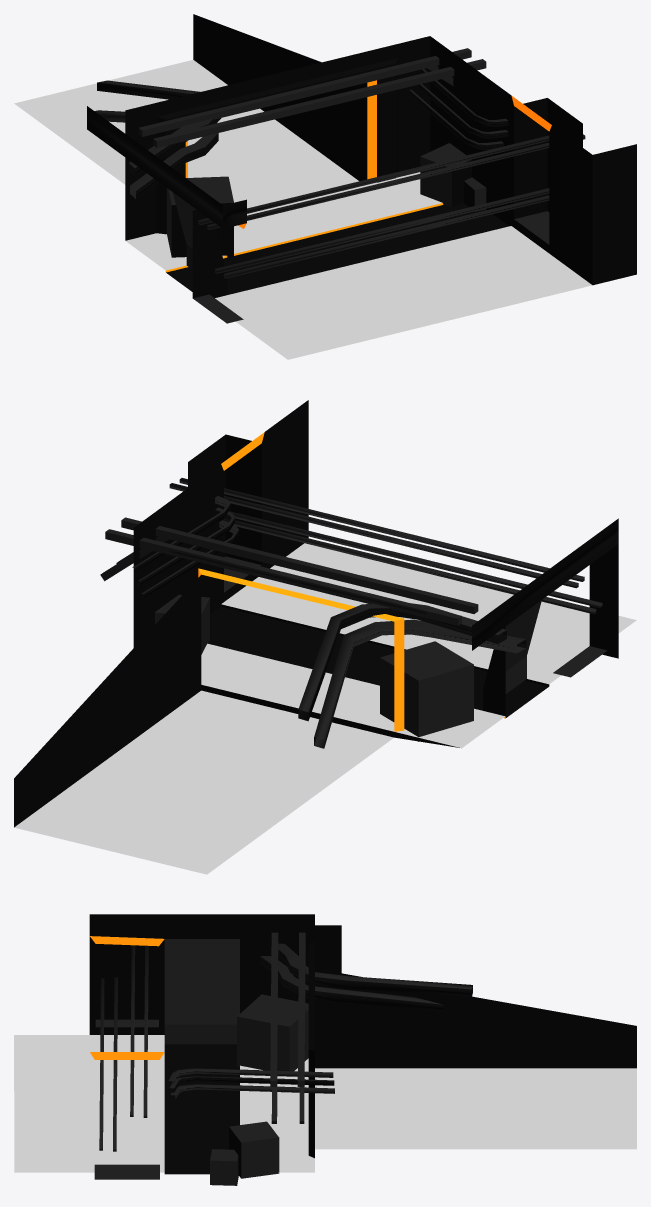
The model's file is 1Tile1.fbx.
3 renders of one model, top to bottom at view 1: azimuth 30°, elevation 25°; view 2: azimuth 150°, elevation 25°; view 3: azimuth 270°, elevation 25°, orthographic. The views are drawn at different scales.
Visible parts, largest first — view 1: Plane, Cube.011, Cube.012, Cube.030, Cube.031, Cube.016, Cube.017, Cube.019, Cube.018, Cube.022, Cube.023, Cube.015 (+3 smaller); view 2: Plane, Cube.030, Cube.011, Cube.012, Cube.023, Cube.022, Cube.019, Cube.017, Cube.018, Cube.016, Cube.013, Cube.014 (+2 smaller); view 3: Plane, Cube.030, Cube.022, Cube.031, Cube.023, Cube.011, Cube.012, Cube.035, Cube.013, Cube.014, Cube.015, Cube.019 (+3 smaller).
Part boxes in pixels (x1,y1,x2,y2): Plane: (14, 14, 636, 359); Cube.011: (153, 59, 486, 147); Cube.012: (138, 48, 471, 136); Cube.030: (167, 176, 233, 257); Cube.031: (420, 143, 471, 207); Cube.016: (215, 188, 549, 273); Cube.017: (224, 195, 549, 278); Cube.019: (198, 135, 549, 224); Cube.018: (207, 134, 585, 229); Cube.022: (97, 80, 221, 176); Cube.023: (94, 110, 218, 198); Cube.015: (409, 89, 503, 149); Plane: (14, 400, 636, 874); Cube.030: (380, 641, 473, 741); Cube.011: (121, 517, 478, 613); Cube.012: (105, 529, 461, 625); Cube.023: (314, 619, 526, 748); Cube.022: (298, 603, 506, 721); Cube.019: (169, 483, 578, 588); Cube.017: (228, 511, 602, 608); Cube.018: (179, 478, 584, 581); Cube.016: (224, 518, 596, 614); Cube.013: (137, 507, 235, 586); Cube.014: (132, 496, 230, 572); Plane: (14, 914, 636, 1179); Cube.030: (237, 994, 308, 1071); Cube.022: (278, 943, 472, 996); Cube.031: (229, 1121, 279, 1178); Cube.023: (260, 956, 443, 1012); Cube.011: (270, 932, 278, 1086); Cube.012: (297, 932, 305, 1086); Cube.035: (210, 1149, 238, 1185); Cube.013: (169, 1076, 334, 1092); Cube.014: (168, 1068, 333, 1084); Cube.015: (170, 1084, 334, 1098); Cube.019: (143, 945, 148, 1117).
Size of the model in its own units: 11020 by 3736 by 16625.
